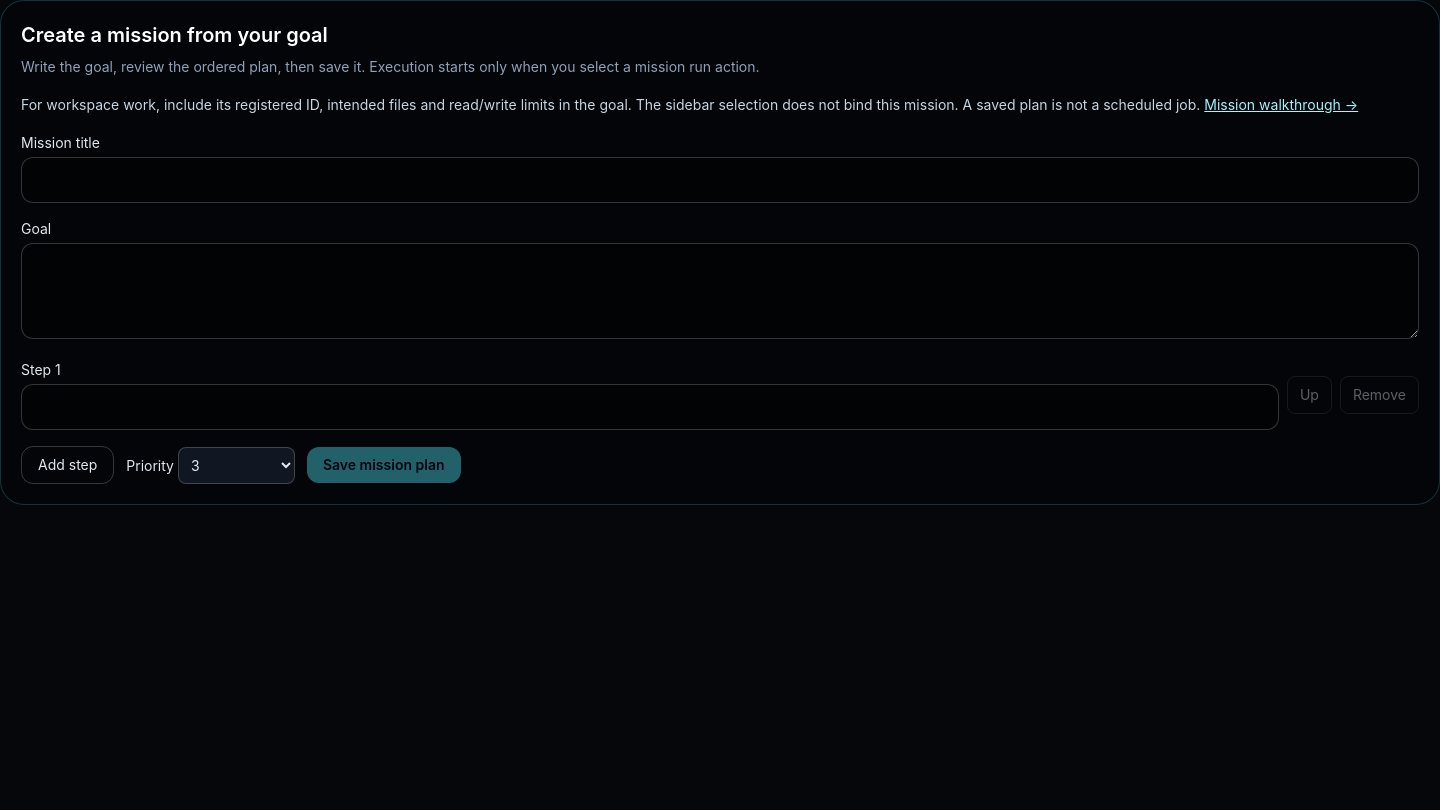
it: saves a reviewed free-form plan in the user's chosen order
The image size is (1440, 810).
In the field labelled "Mission title": coordinates (720, 180) [21,157,1419,203], type "Review application"
In the text box labelled "Goal": coordinates (720, 291) [21,243,1419,339], type "Find the next safe change"
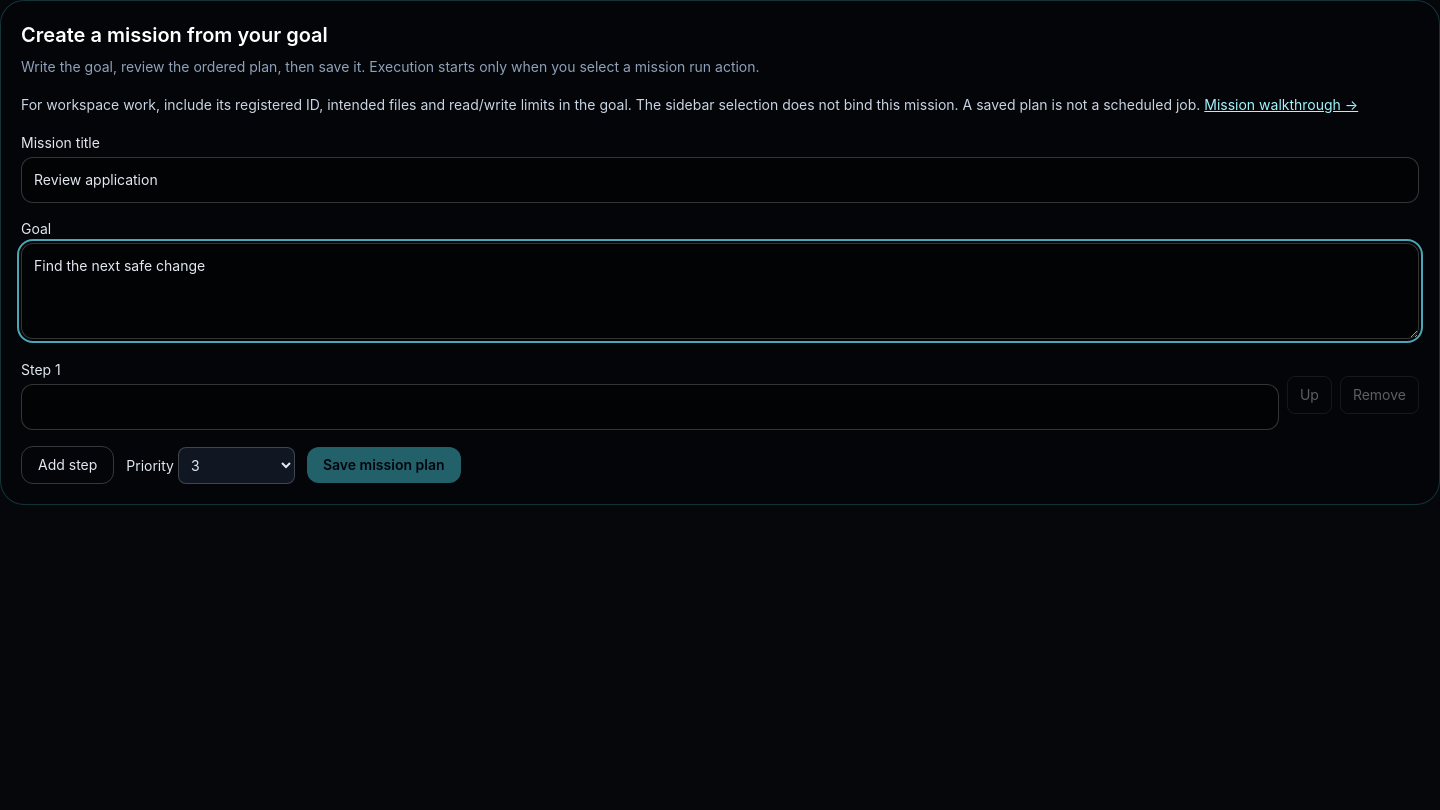
In the field labelled "Step 1": coordinates (650, 407) [21,384,1279,430], type "Report evidence"
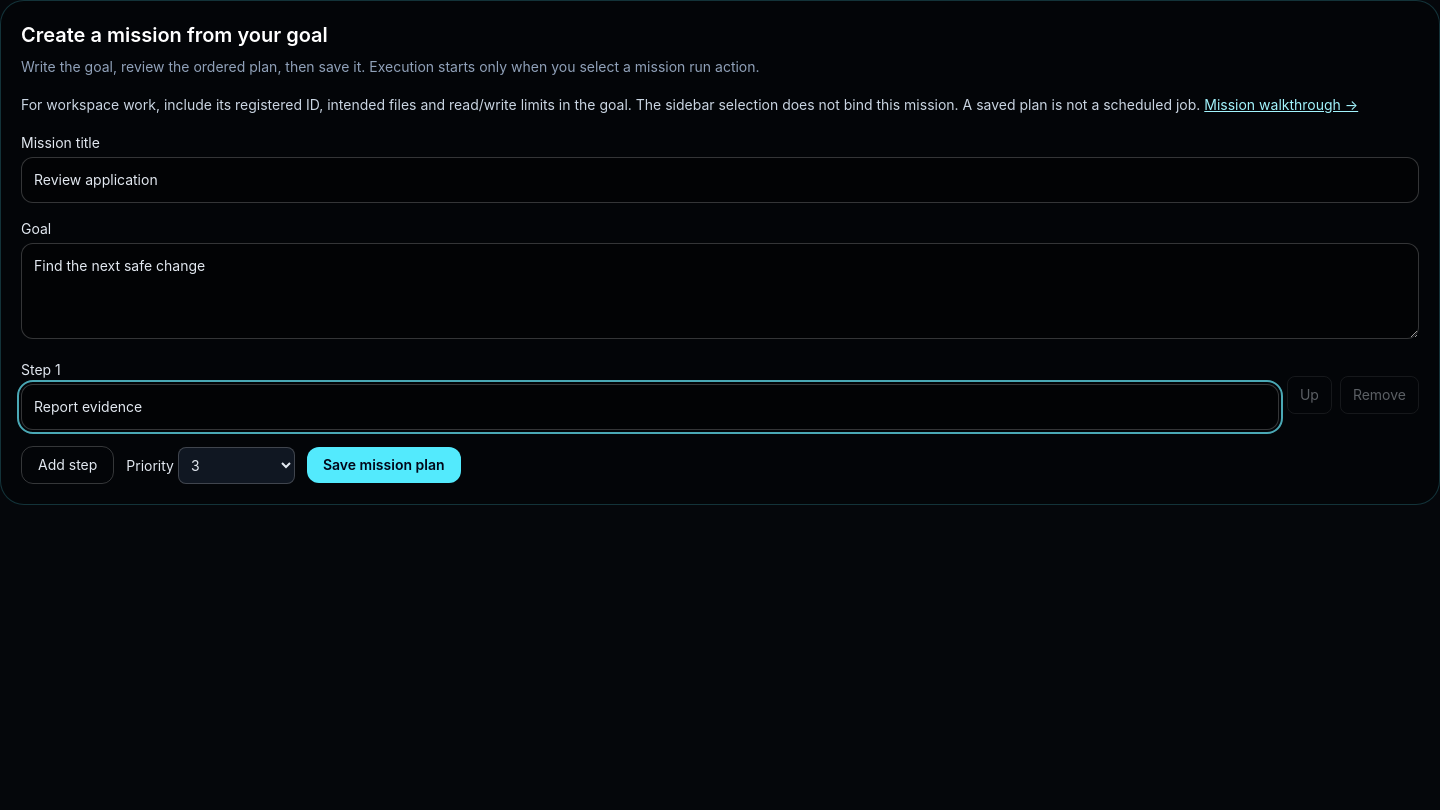
Click the button "Add step": coordinates (68, 465) [21,446,114,484]
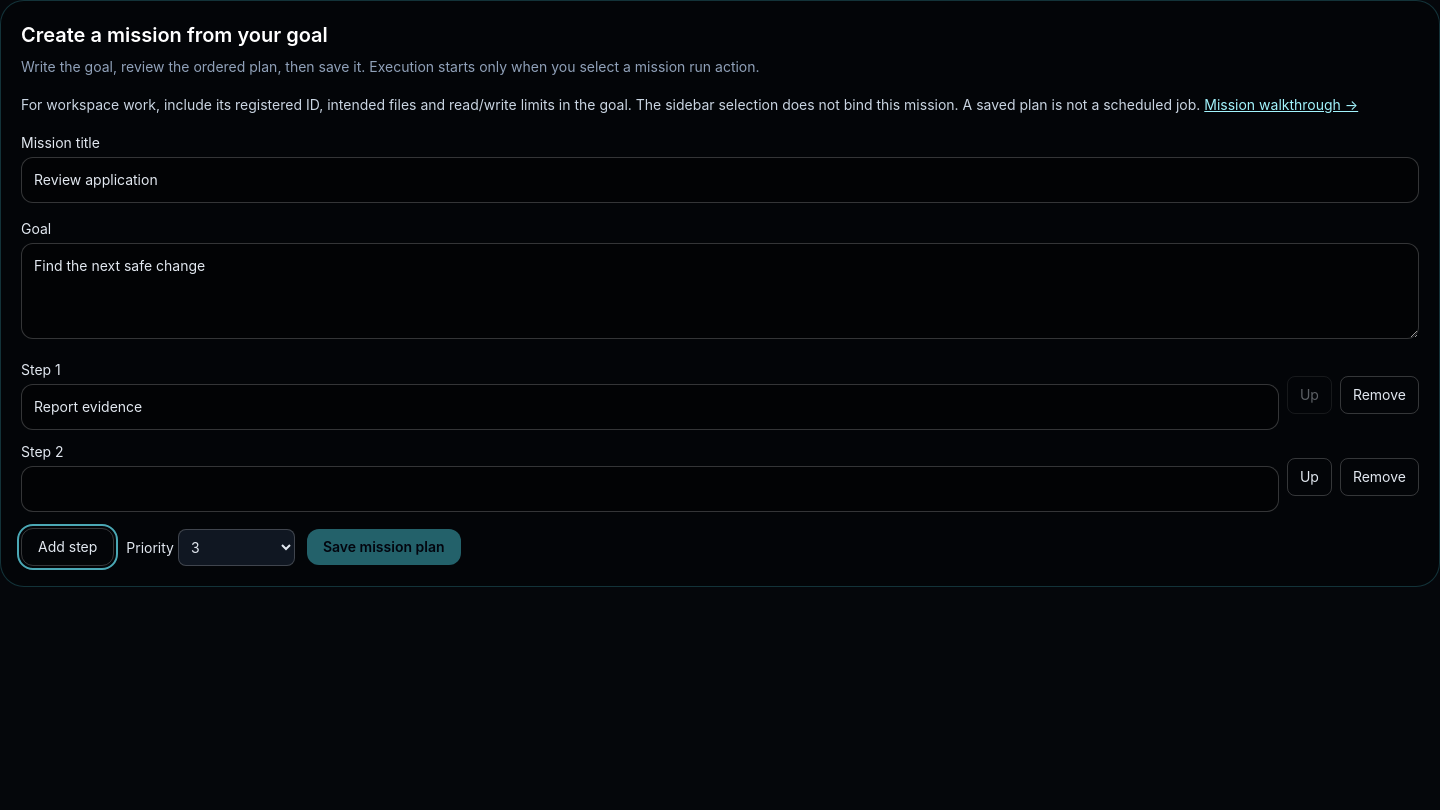
In the field labelled "Step 2": coordinates (650, 489) [21,466,1279,512], type "Inspect workspace"
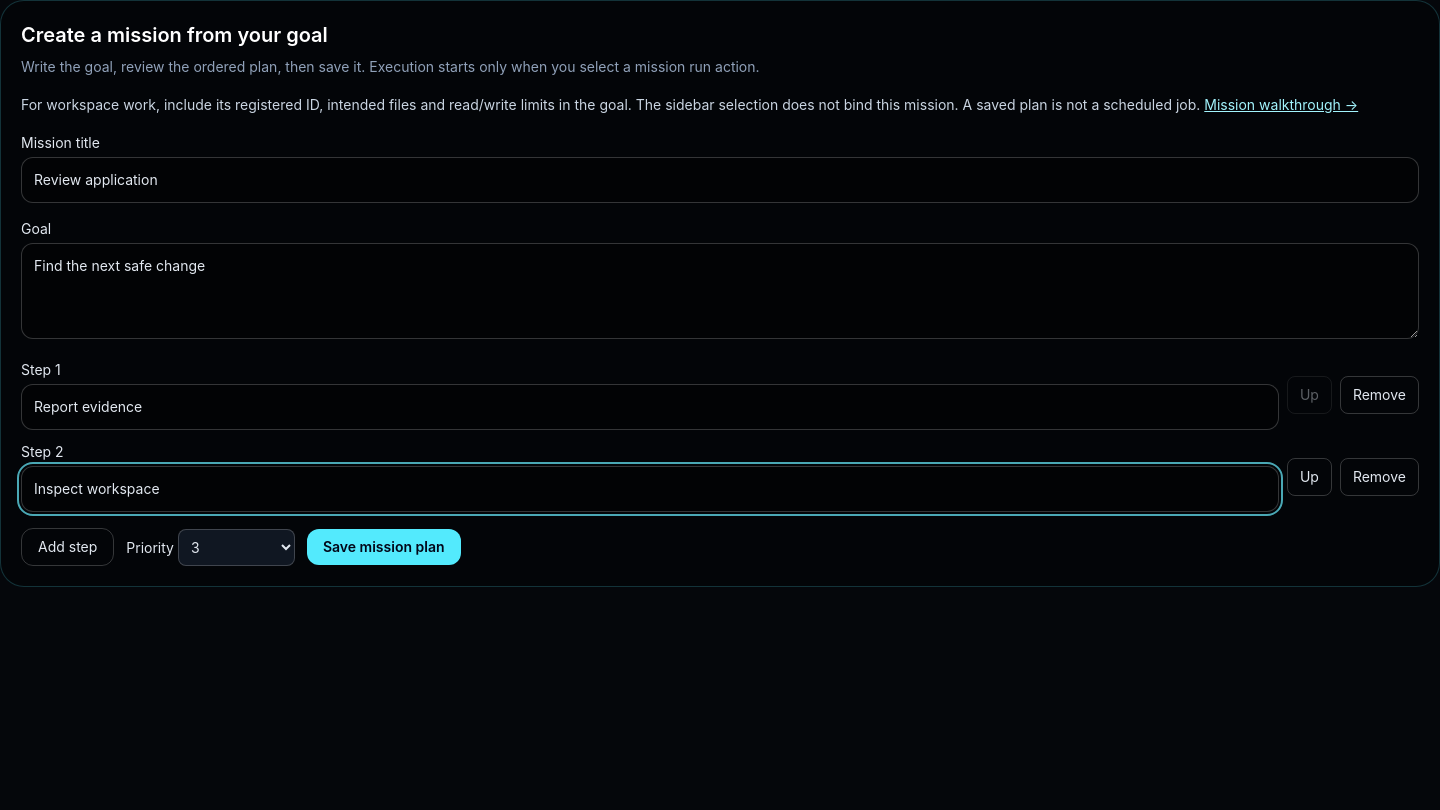
Click the button with aria-label "Move step 2 up": coordinates (1309, 477) [1287,458,1332,496]
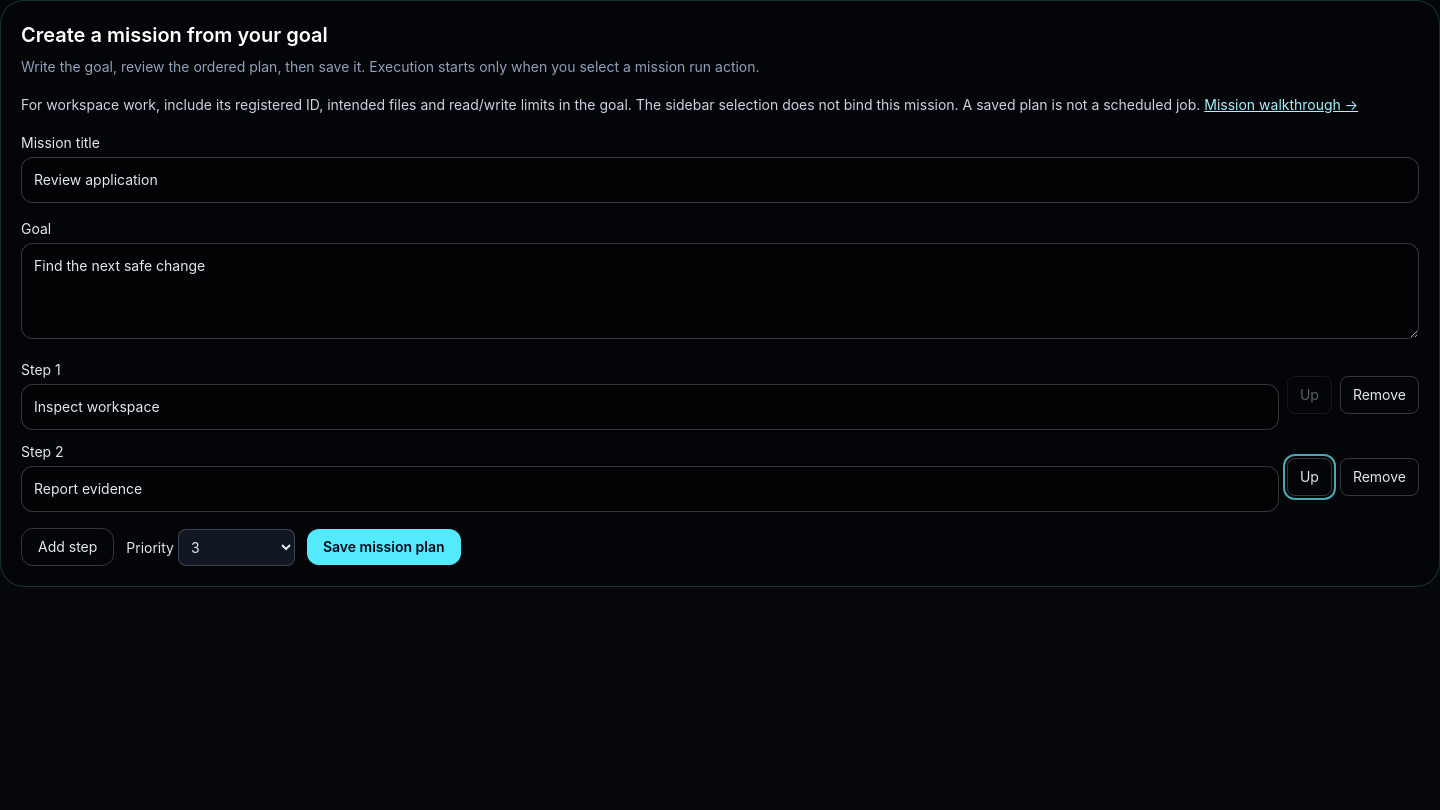
Click the button "Save mission plan": coordinates (384, 547) [307,529,460,565]
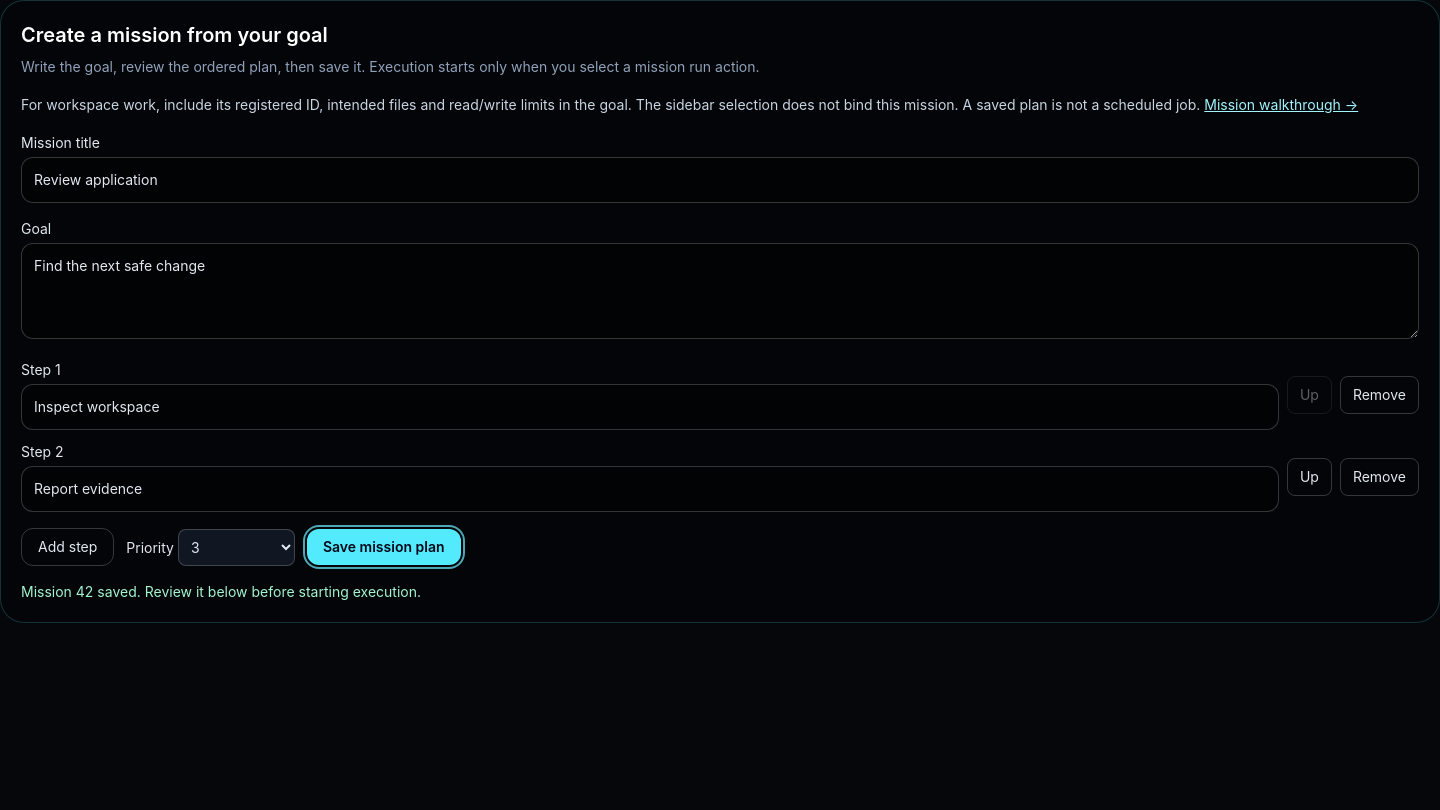
Now the message "Mission 42 saved. Review it below before starting execution." is shown, box [21,583,421,600]
